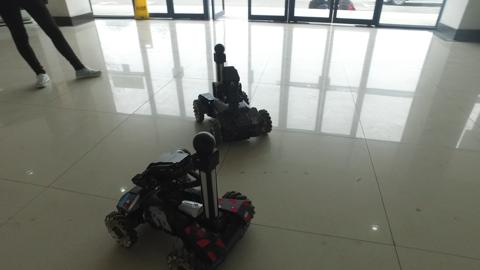chariot: (105, 130, 265, 269), (187, 38, 277, 147)
